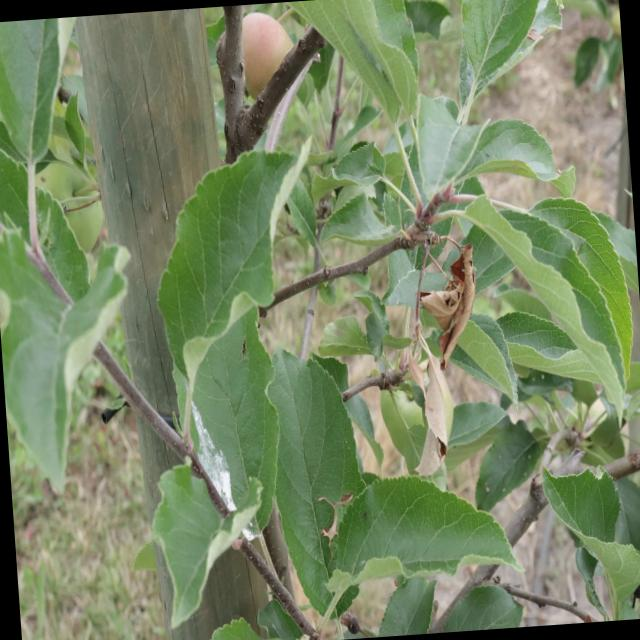-FireBlight-: (403, 234, 476, 475)
